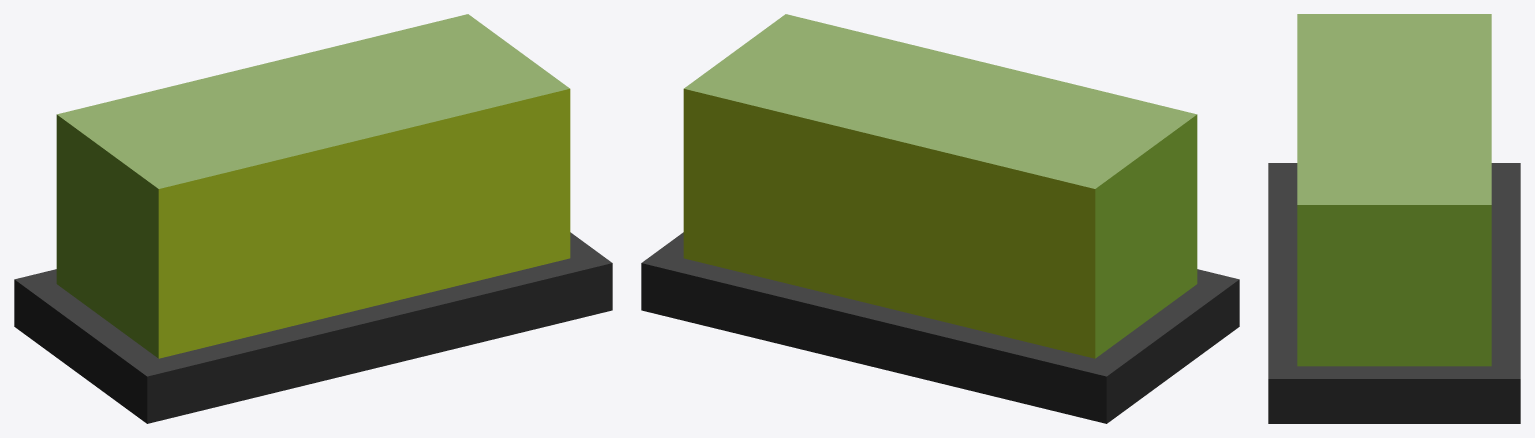
File: TB_CITY_Env_Bush_B.FBX
3 renders of one model, left to right at view 1: azimuth 30°, elevation 25°; view 2: azimuth 150°, elevation 25°; view 3: azimuth 270°, elevation 25°, orthographic. The views are drawn at different scales.
Visible parts, largest first — view 1: TB_CITY_Env_Bush_B; view 2: TB_CITY_Env_Bush_B; view 3: TB_CITY_Env_Bush_B.
Boxes of the visible parts, x1=… form: TB_CITY_Env_Bush_B: x1=14, y1=14, x2=612, y2=423; TB_CITY_Env_Bush_B: x1=641, y1=14, x2=1239, y2=423; TB_CITY_Env_Bush_B: x1=1268, y1=14, x2=1520, y2=423.
Bounding box in the file's own units: 3.1 × 1.38 × 1.53.
